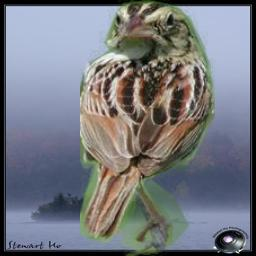Sparrow: (80, 0, 215, 256)
